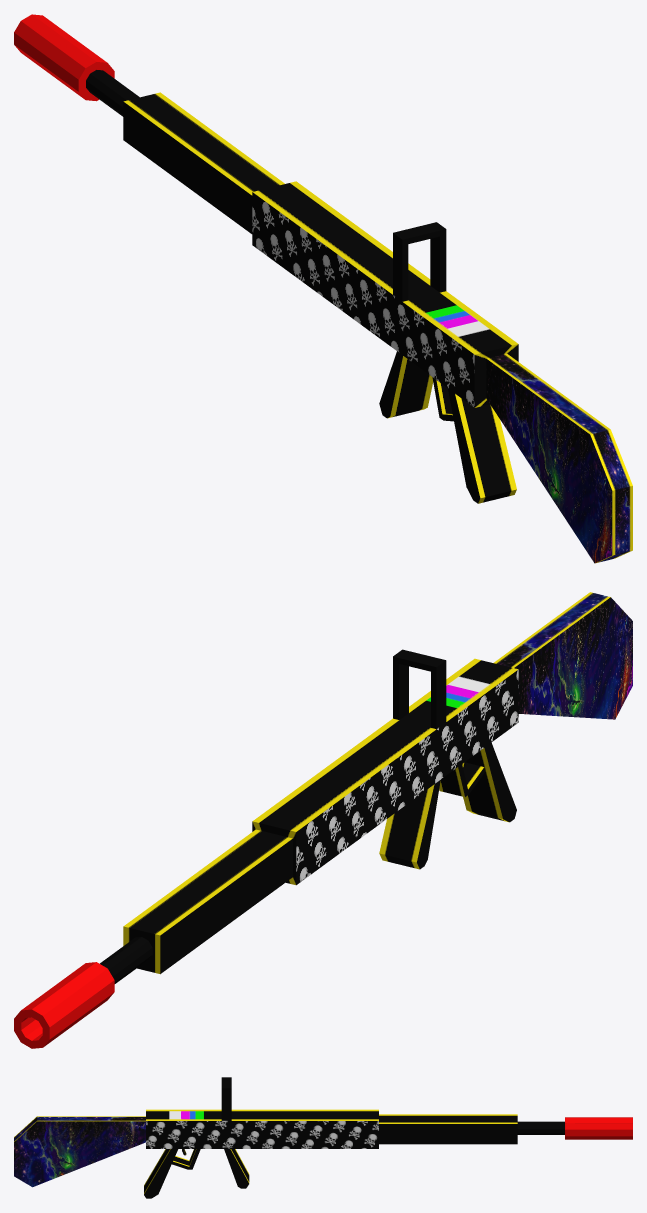
Rendered from Gun 7.fbx.
3 renders of one model, top to bottom at view 1: azimuth 30°, elevation 25°; view 2: azimuth 150°, elevation 25°; view 3: azimuth 270°, elevation 25°, orthographic. The views are drawn at different scales.
Parts seen in each view (by area): view 1: Cylinder; view 2: Cylinder; view 3: Cylinder.
Part boxes in pixels (x1,y1,x2,y2): Cylinder: [14, 14, 632, 563]; Cylinder: [14, 592, 632, 1048]; Cylinder: [14, 1077, 632, 1198].
Size of the model in its own units: 64.18 by 296 by 1496.
1 material, 1 textured.
